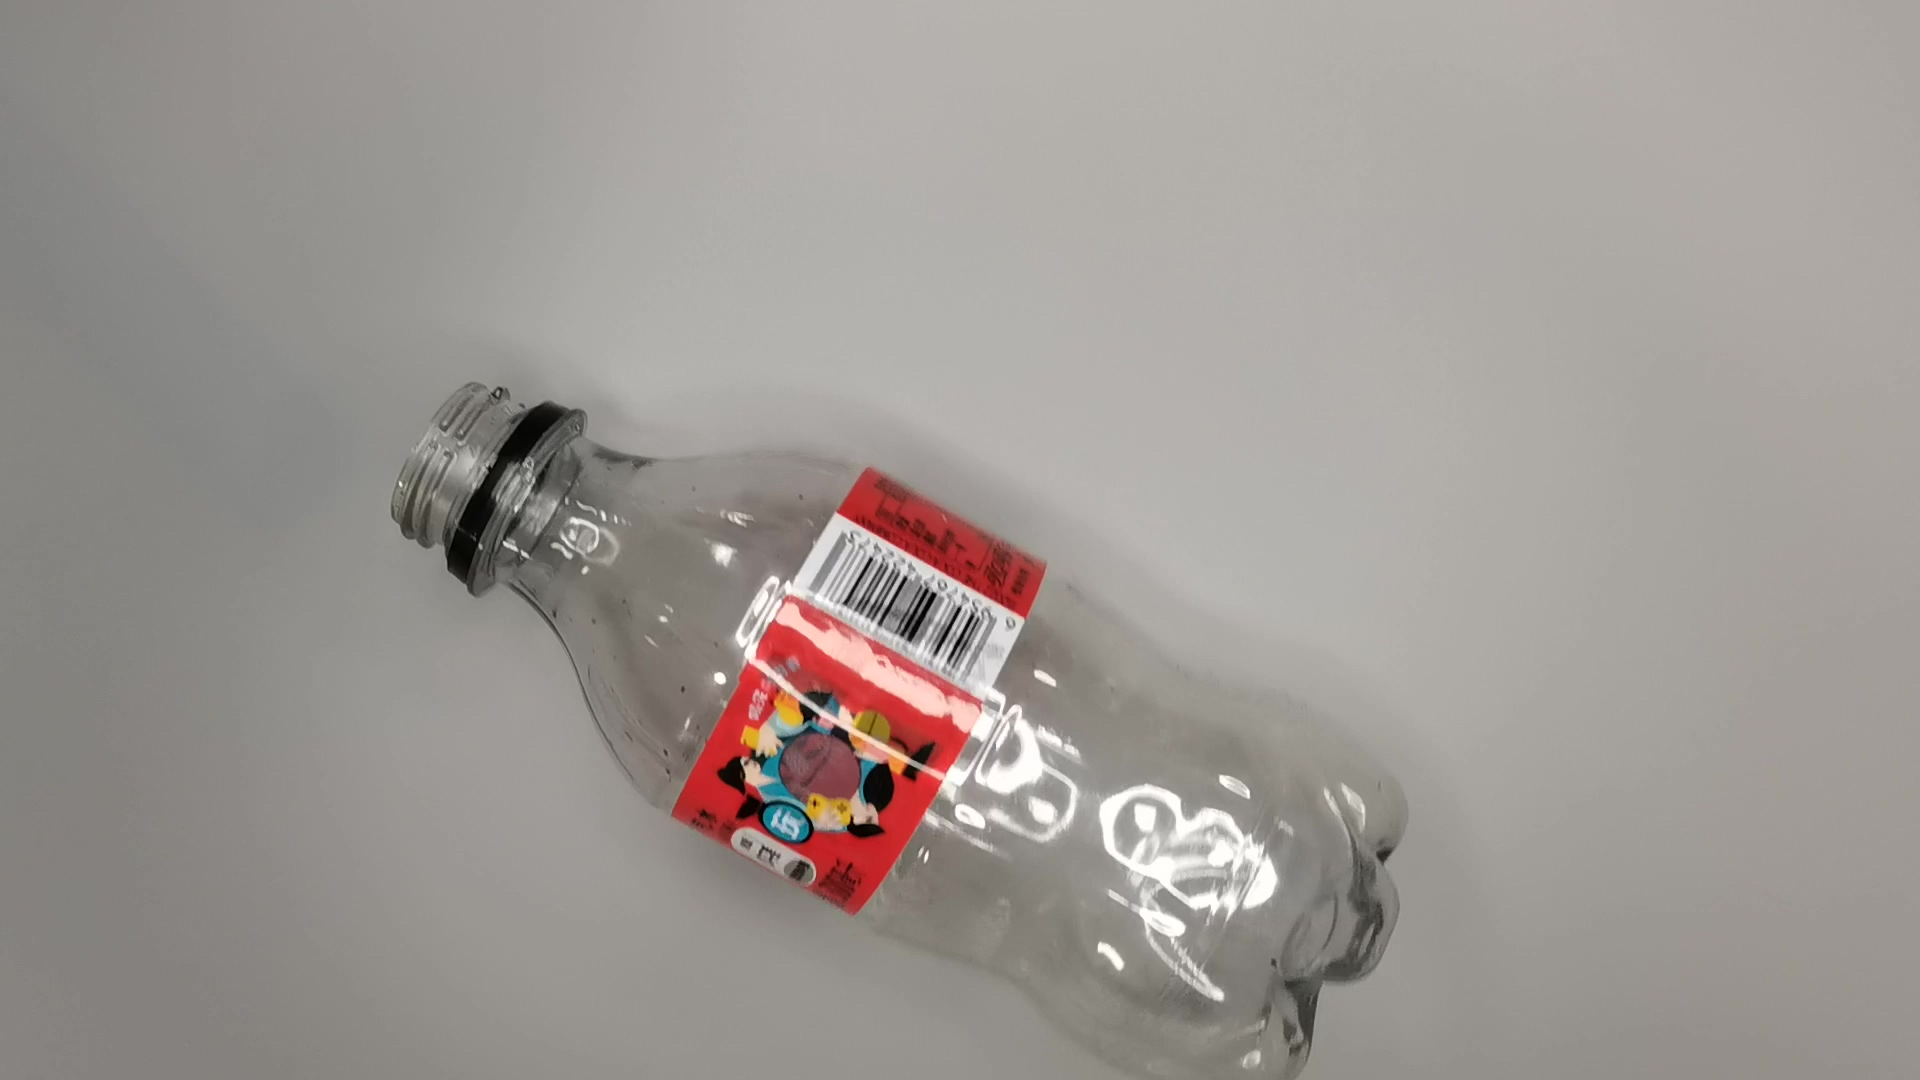bottle: (386, 368, 1414, 1080)
